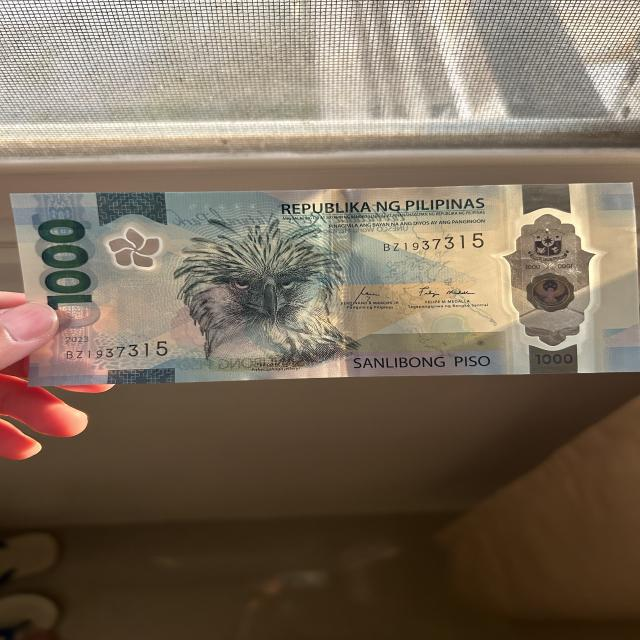clear_window: (492, 210, 610, 349)
eagle: (186, 225, 348, 373)
sampaguita: (101, 230, 164, 270)
